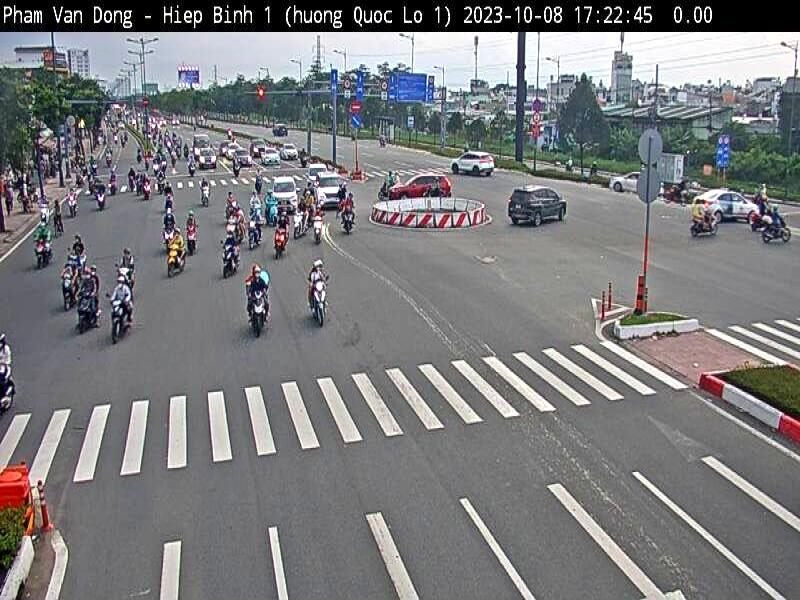car: (694, 186, 760, 224), (509, 181, 566, 223), (391, 174, 455, 200), (316, 171, 348, 210), (454, 151, 496, 177), (271, 174, 300, 208), (610, 168, 641, 195), (306, 160, 328, 190)
motorcycle: (248, 284, 270, 340), (74, 288, 98, 330), (308, 279, 330, 324), (108, 294, 128, 343), (60, 271, 77, 309), (221, 240, 236, 278), (167, 244, 186, 272)
